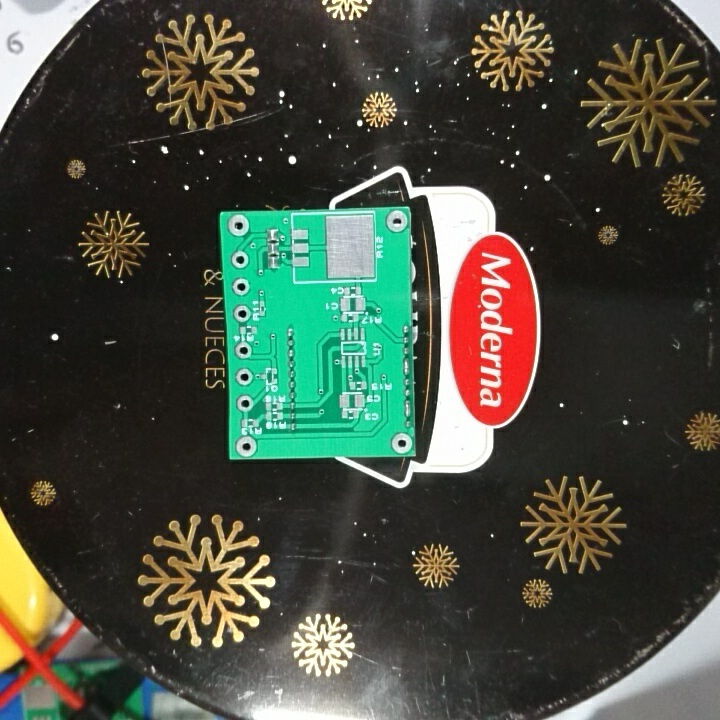F: (225, 212, 253, 240), (384, 209, 410, 234), (389, 430, 414, 456), (234, 432, 259, 457), (232, 339, 254, 363), (231, 275, 253, 298), (230, 249, 250, 272), (234, 365, 254, 388), (234, 392, 254, 414), (232, 304, 252, 325)
P: (402, 398, 413, 419), (401, 357, 411, 378)
